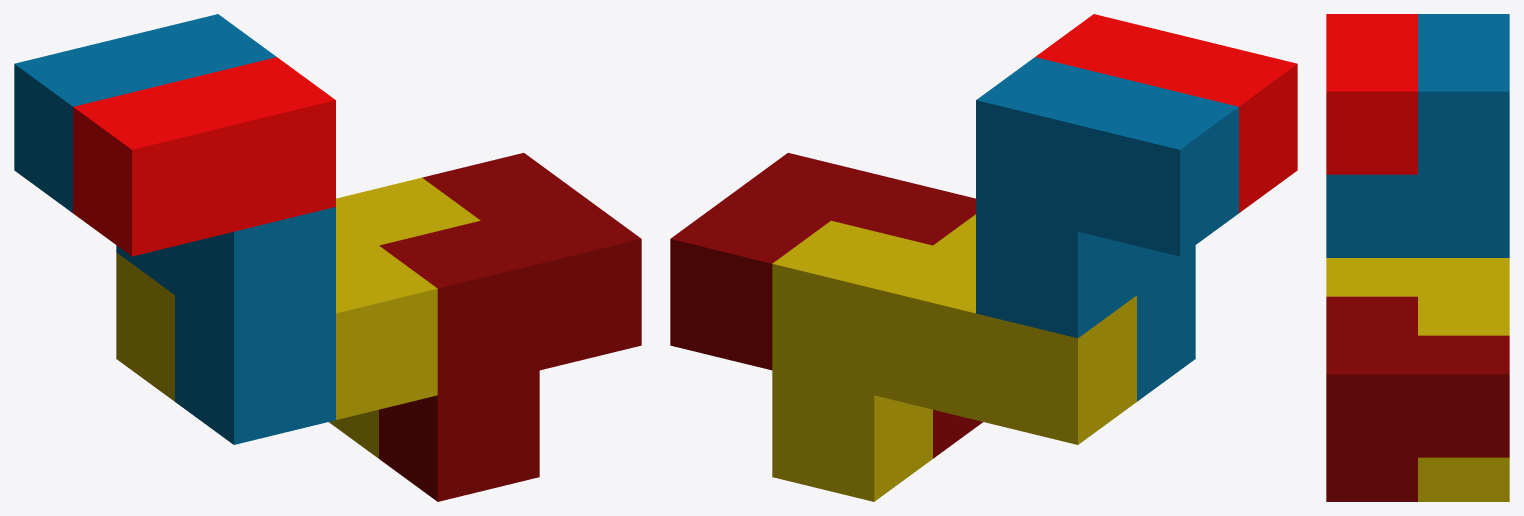
3 views of the same model, side by side, from view 1: azimuth 30°, elevation 25°; view 2: azimuth 150°, elevation 25°; view 3: azimuth 270°, elevation 25° (orthographic). The views are drawn at different scales.
Visible parts, largest first — view 1: mergedBlocks(Clone); view 2: mergedBlocks(Clone); view 3: mergedBlocks(Clone).
Part boxes in pixels (x1,y1,x2,y2): mergedBlocks(Clone): [14, 14, 641, 501]; mergedBlocks(Clone): [670, 14, 1297, 501]; mergedBlocks(Clone): [1326, 14, 1509, 501].
Bounding box in the file's own units: 5 × 4 × 2.
Materials: 4 (4 with a texture image).
